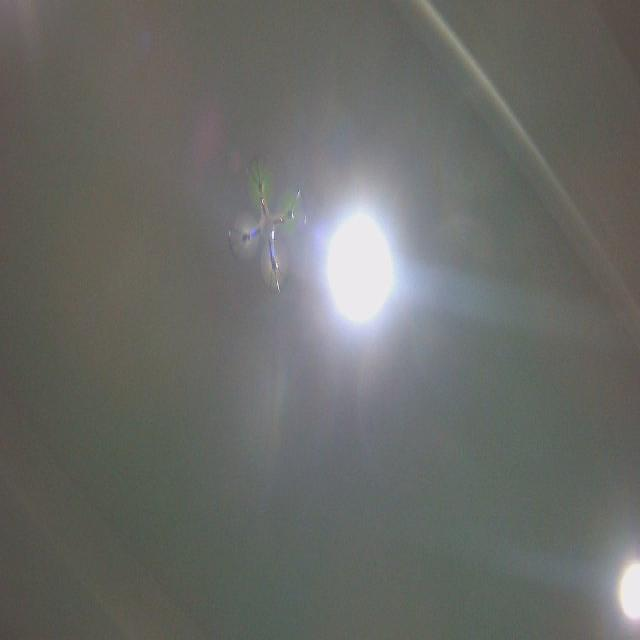drone: (226, 151, 311, 298)
